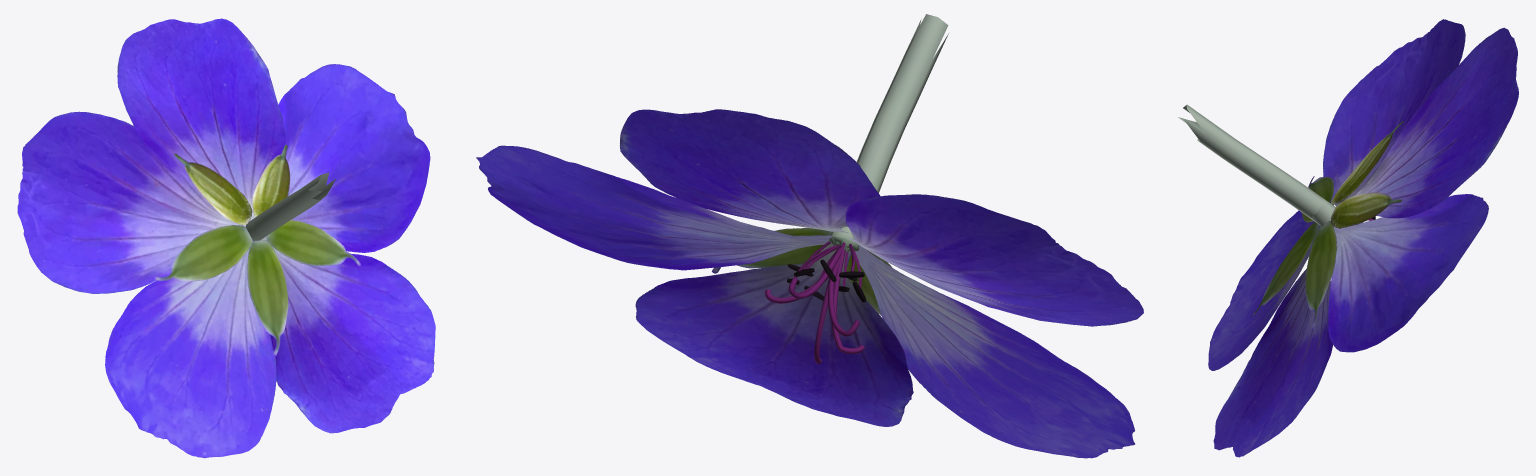
3 views of the same model, side by side, from view 1: azimuth 30°, elevation 25°; view 2: azimuth 150°, elevation 25°; view 3: azimuth 270°, elevation 25° (orthographic). The views are drawn at different scales.
Visible parts, largest first — view 1: 56d60886; view 2: 56d60886; view 3: 56d60886.
Boxes of the visible parts, x1,y1,x2,y2 form: 56d60886: [17, 18, 435, 458]; 56d60886: [476, 14, 1143, 458]; 56d60886: [1178, 19, 1518, 457].
Size of the model in its own units: 0.1752 by 0.1282 by 0.1095.
Materials: 1 (1 with a texture image).
